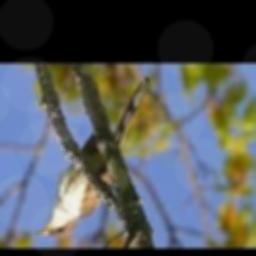Cuckoo: (33, 77, 148, 238)
